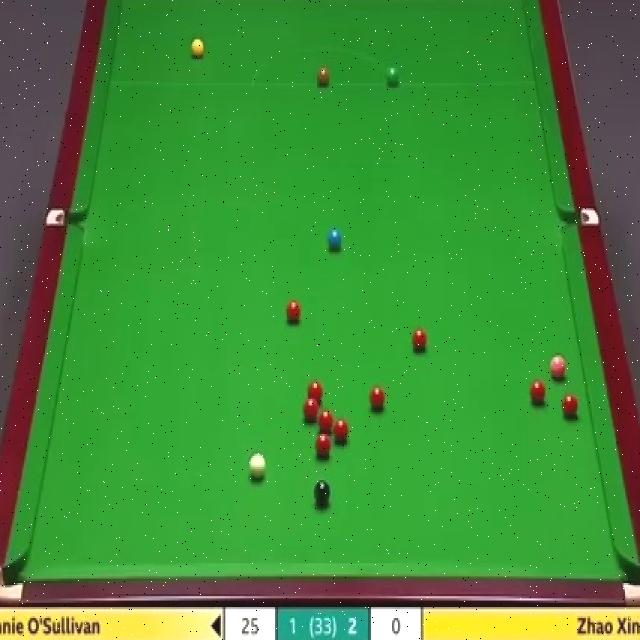black-ball: (313, 476, 331, 507)
blue-ball: (329, 226, 342, 252)
brown-ball: (316, 67, 332, 86)
green-ball: (384, 64, 400, 88)
pink-ball: (548, 354, 566, 378)
red-ball: (314, 433, 333, 462), (368, 384, 386, 414), (561, 393, 580, 418), (529, 378, 545, 406), (411, 326, 428, 352), (285, 301, 303, 325), (335, 418, 349, 448), (305, 382, 323, 404), (319, 409, 333, 436), (304, 398, 318, 424)
white-ball: (248, 453, 266, 484)
yellow-ball: (190, 36, 205, 61)
